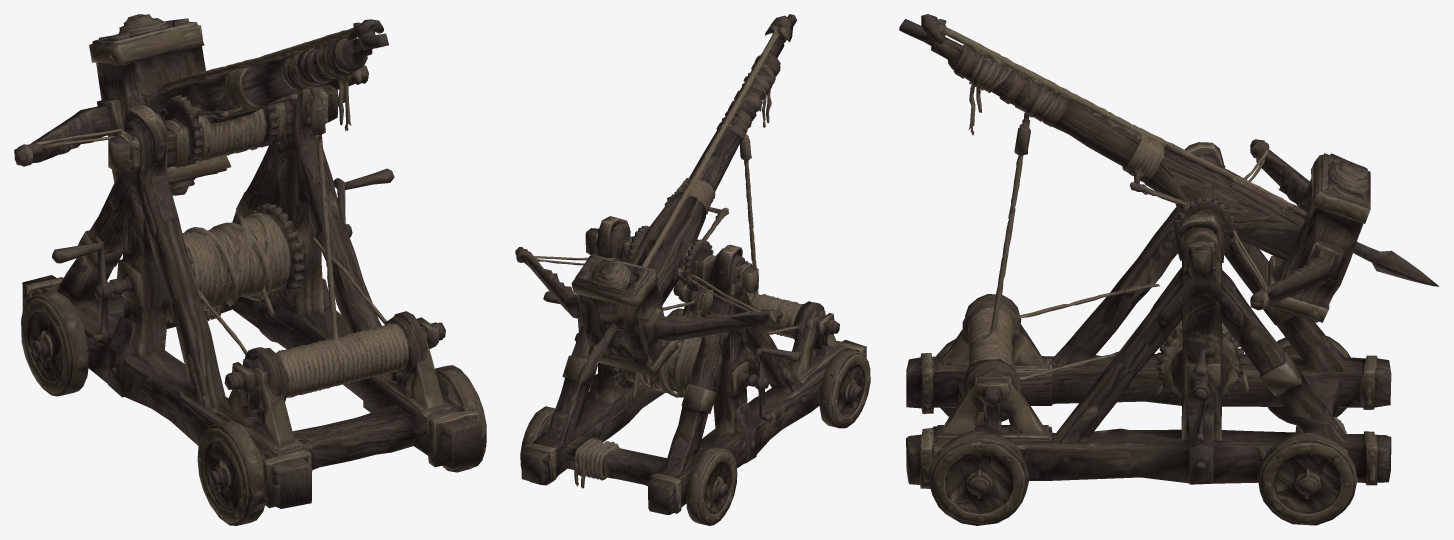
File: balista.gltf
3 renders of one model, left to right at view 1: azimuth 30°, elevation 25°; view 2: azimuth 150°, elevation 25°; view 3: azimuth 270°, elevation 25°, orthographic. The views are drawn at different scales.
Parts seen in each view (by area): view 1: Mesh_0; view 2: Mesh_0; view 3: Mesh_0.
Boxes of the visible parts, x1,y1,x2,y2 form: Mesh_0: (14,14,486,525); Mesh_0: (515,14,870,525); Mesh_0: (899,14,1439,525).
Size of the model in its own units: 1.19 by 1.6 by 1.7.
1 material, 1 textured.
